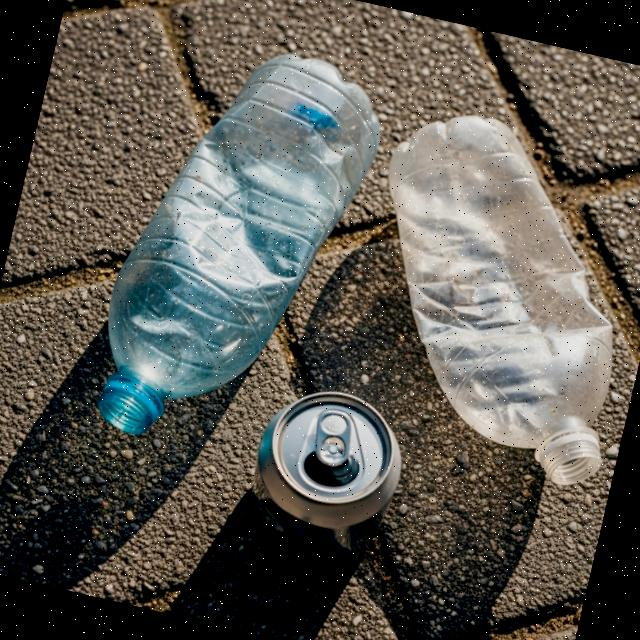aluminum: (230, 372, 416, 582)
plastic: (80, 21, 396, 476), (320, 91, 640, 498)
